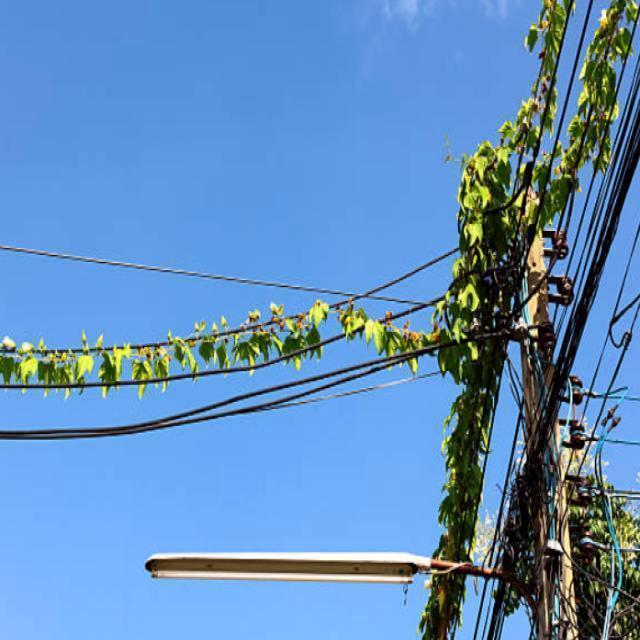critical vegetation: (425, 144, 578, 566), (553, 449, 636, 626)
